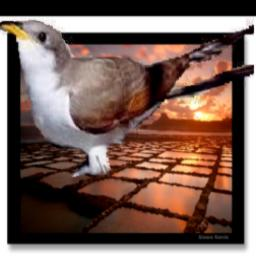Cuckoo: (0, 18, 255, 177)
